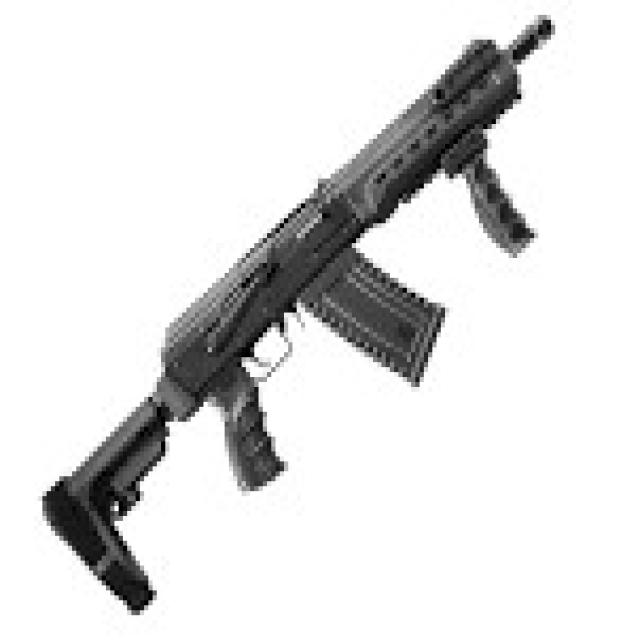rifle: (37, 9, 560, 634)
